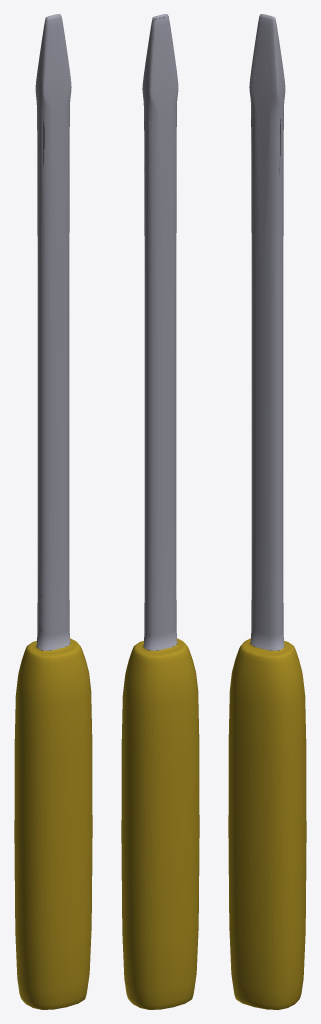
Rendered from Screwdriver.fbx.
3 views of the same model, side by side, from view 1: azimuth 30°, elevation 25°; view 2: azimuth 210°, elevation 25°; view 3: azimuth 330°, elevation 25° (orthographic).
Visible parts, largest first — view 1: Scredriver; view 2: Scredriver; view 3: Scredriver.
Part boxes in pixels (x1=…): Scredriver: x1=14, y1=14, x2=92, y2=1009; Scredriver: x1=121, y1=14, x2=199, y2=1009; Scredriver: x1=228, y1=14, x2=306, y2=1009.
Size of the model in its own units: 0.011 by 0.1526 by 0.00933.
